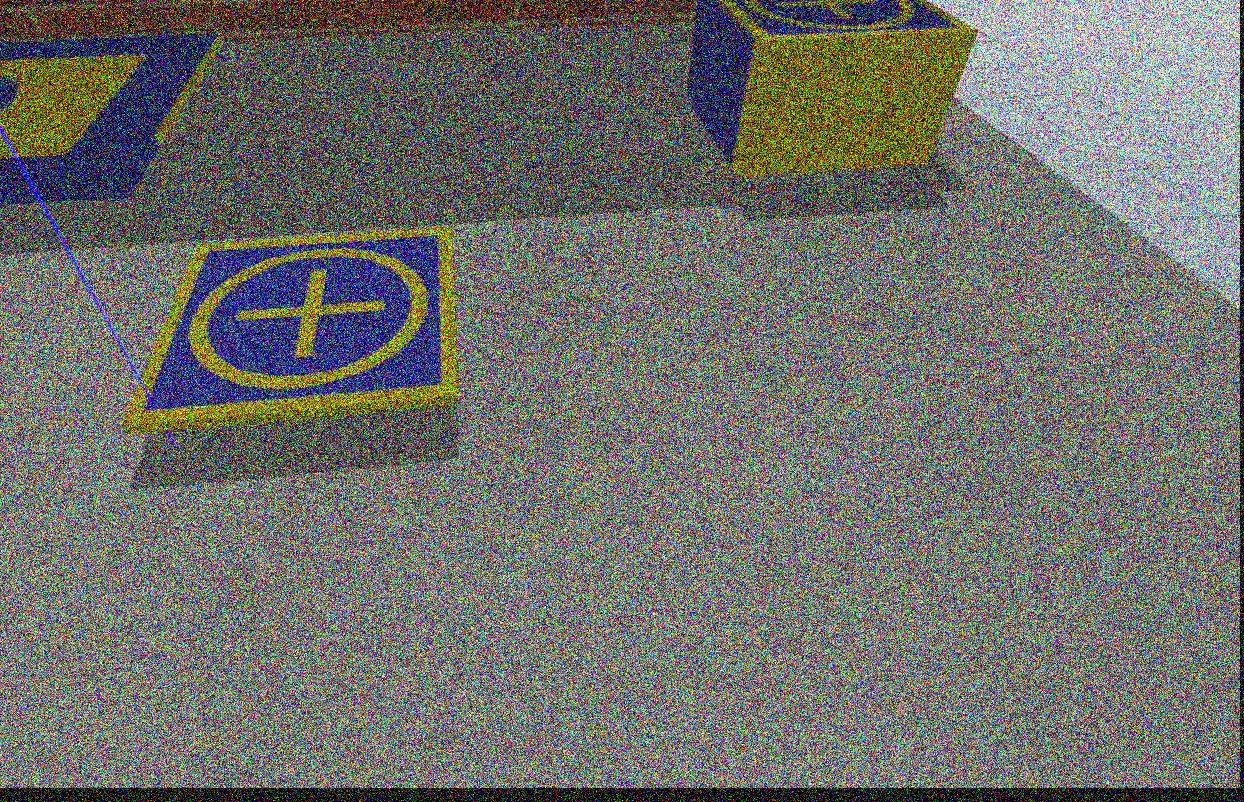large_base: (0, 34, 223, 216)
small_base: (124, 231, 467, 431), (712, 1, 986, 45)
